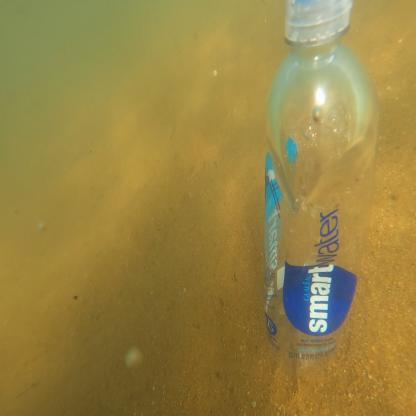Rác: (216, 0, 414, 364)
